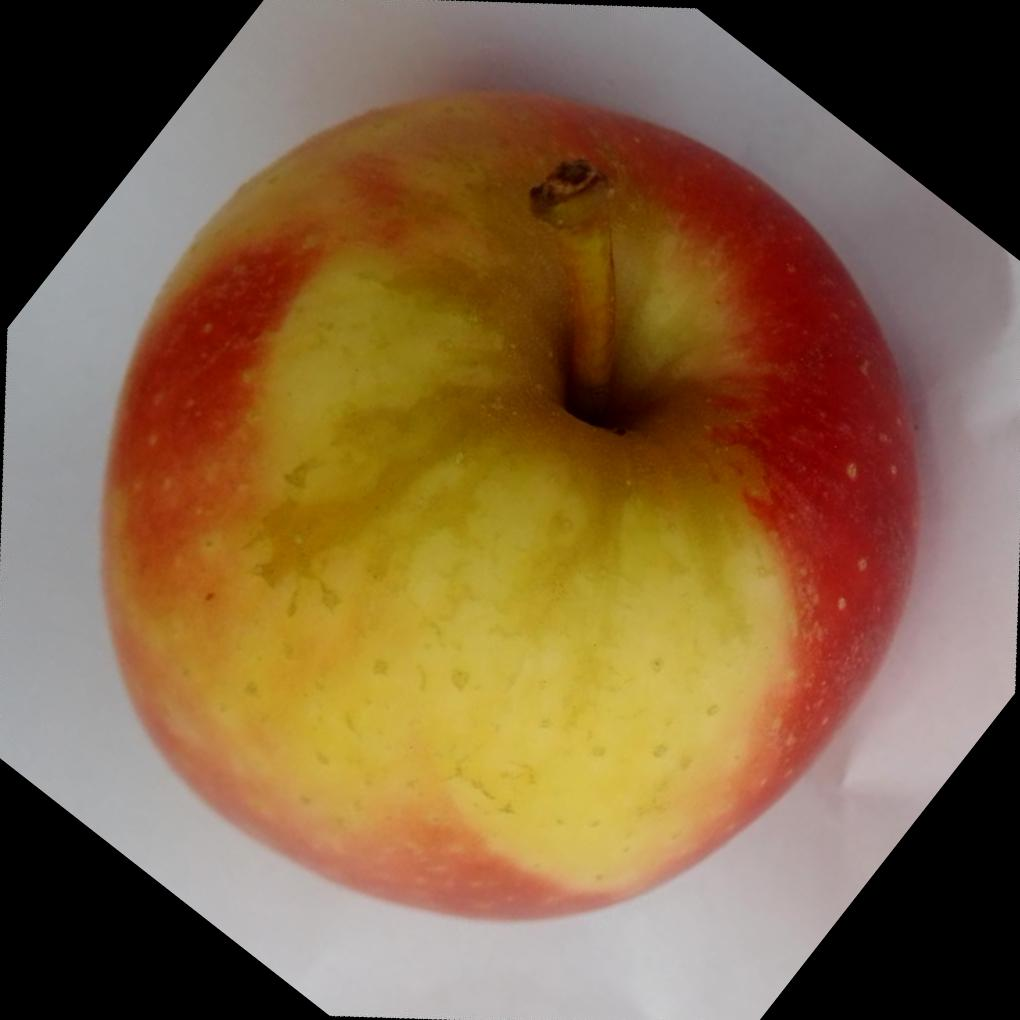FreshGuava: (94, 80, 922, 922)
